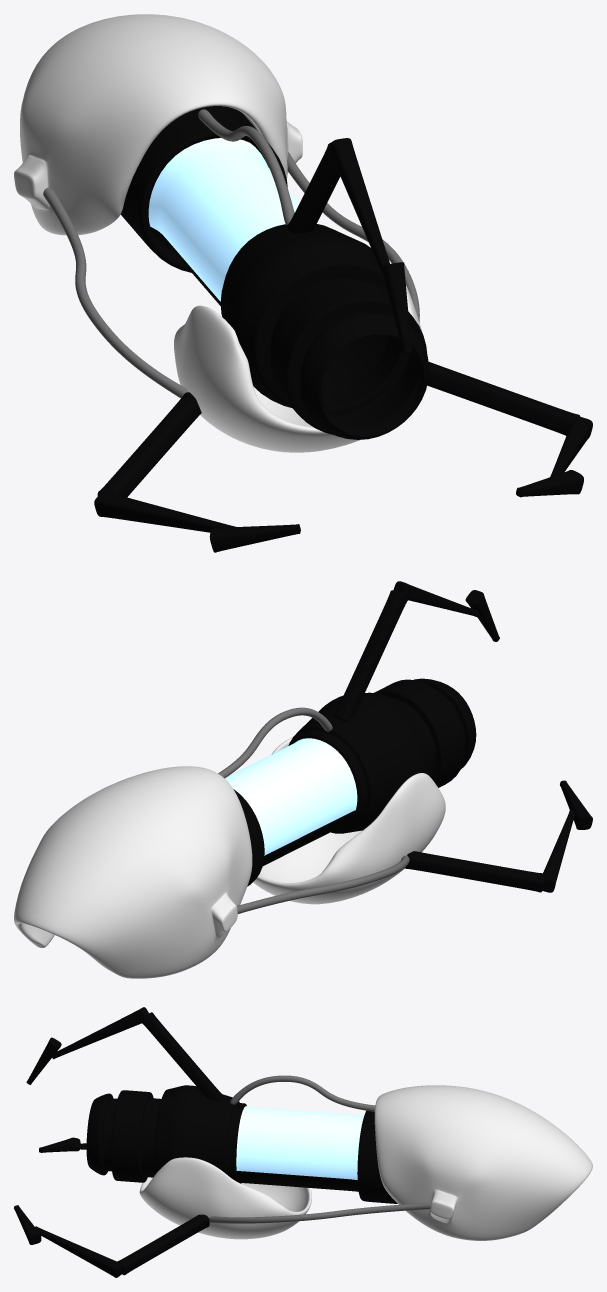
Rendered from portalgun_inverted.fbx.
3 views of the same model, one above another, from view 1: azimuth 30°, elevation 25°; view 2: azimuth 150°, elevation 25°; view 3: azimuth 270°, elevation 25° (orthographic). The views are drawn at different scales.
Parts seen in each view (by area): view 1: Cube.007, Cube.006, Cube.001, Cube.003, Cube.002, Cube.004; view 2: Cube.007, Cube.002, Cube.003, Cube.006, Cube.001; view 3: Cube.007, Cube.006, Cube.002, Cube.004, Cube.001, Cube.003.
Part boxes in pixels (left/top/right/bottom): Cube.007: left=14, top=14, right=427, bottom=452; Cube.006: left=270, top=278, right=427, bottom=434; Cube.001: left=300, top=313, right=428, bottom=439; Cube.003: left=94, top=392, right=300, bottom=552; Cube.002: left=288, top=138, right=412, bottom=353; Cube.004: left=427, top=361, right=592, bottom=497; Cube.007: left=14, top=692, right=445, bottom=978; Cube.002: left=334, top=581, right=499, bottom=721; Cube.003: left=405, top=780, right=592, bottom=892; Cube.006: left=374, top=679, right=464, bottom=787; Cube.001: left=414, top=678, right=476, bottom=769; Cube.007: left=139, top=1075, right=592, bottom=1240; Cube.006: left=111, top=1090, right=161, bottom=1182; Cube.002: left=26, top=1007, right=222, bottom=1101; Cube.004: left=14, top=1205, right=209, bottom=1277; Cube.001: left=86, top=1093, right=117, bottom=1175; Cube.003: left=39, top=1137, right=86, bottom=1152.
Bounding box in the file's own units: 190 × 144 × 349.
